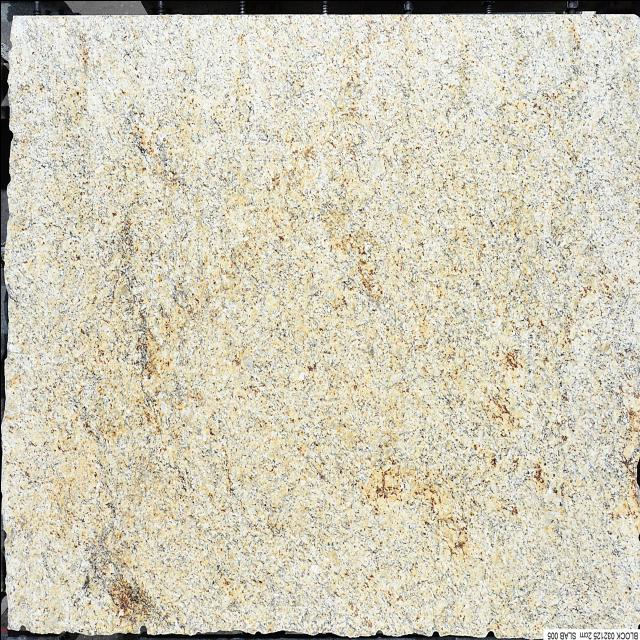chapa: (2, 12, 640, 636)
veio: (136, 624, 148, 636)
